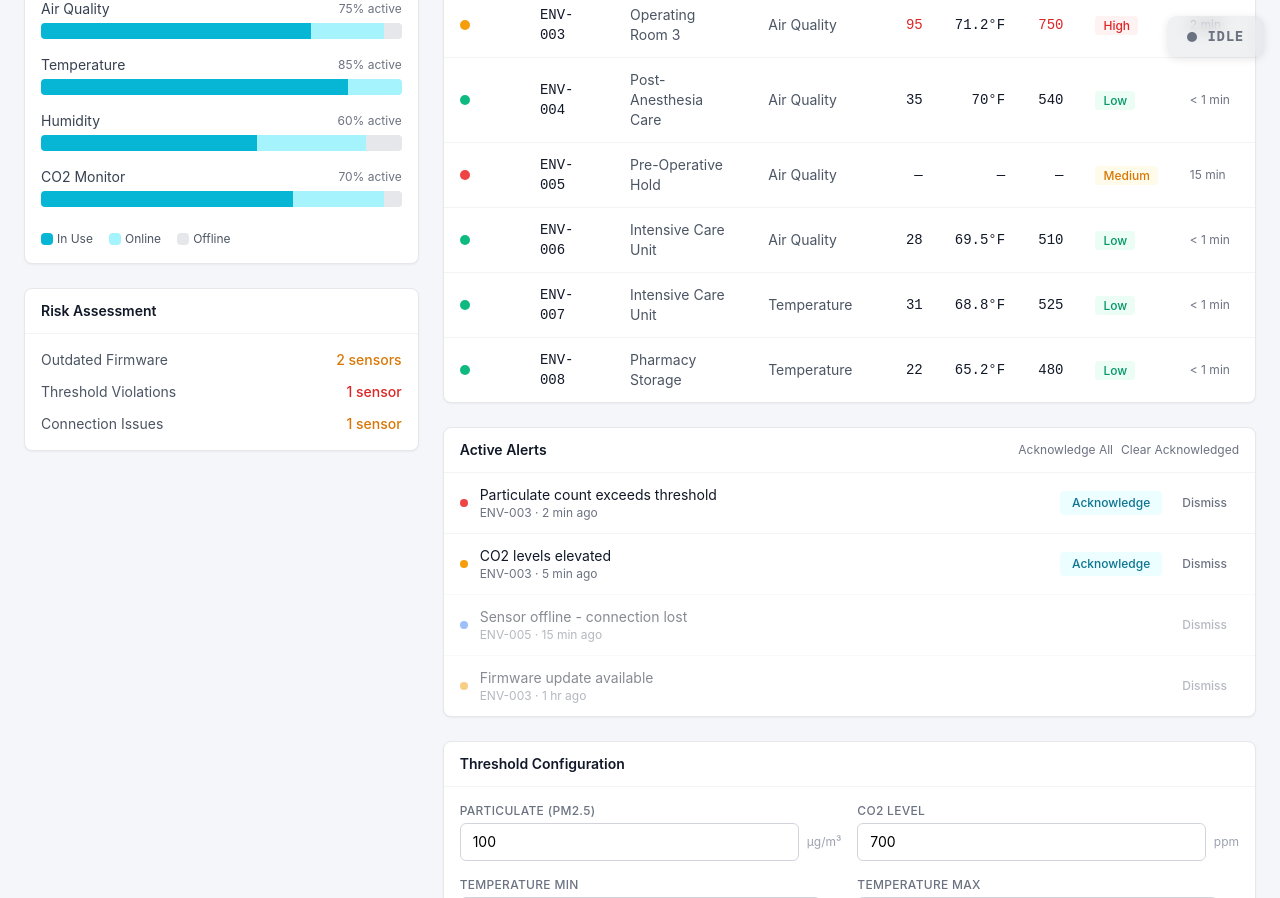
Test: Environmental Monitoring Dashboard › Alerts › acknowledge all button works
(page scrolled)
Click the button with test id "ack-all-alerts-btn" at (1066, 450), box [1018,442,1113,458]
(page scrolled)
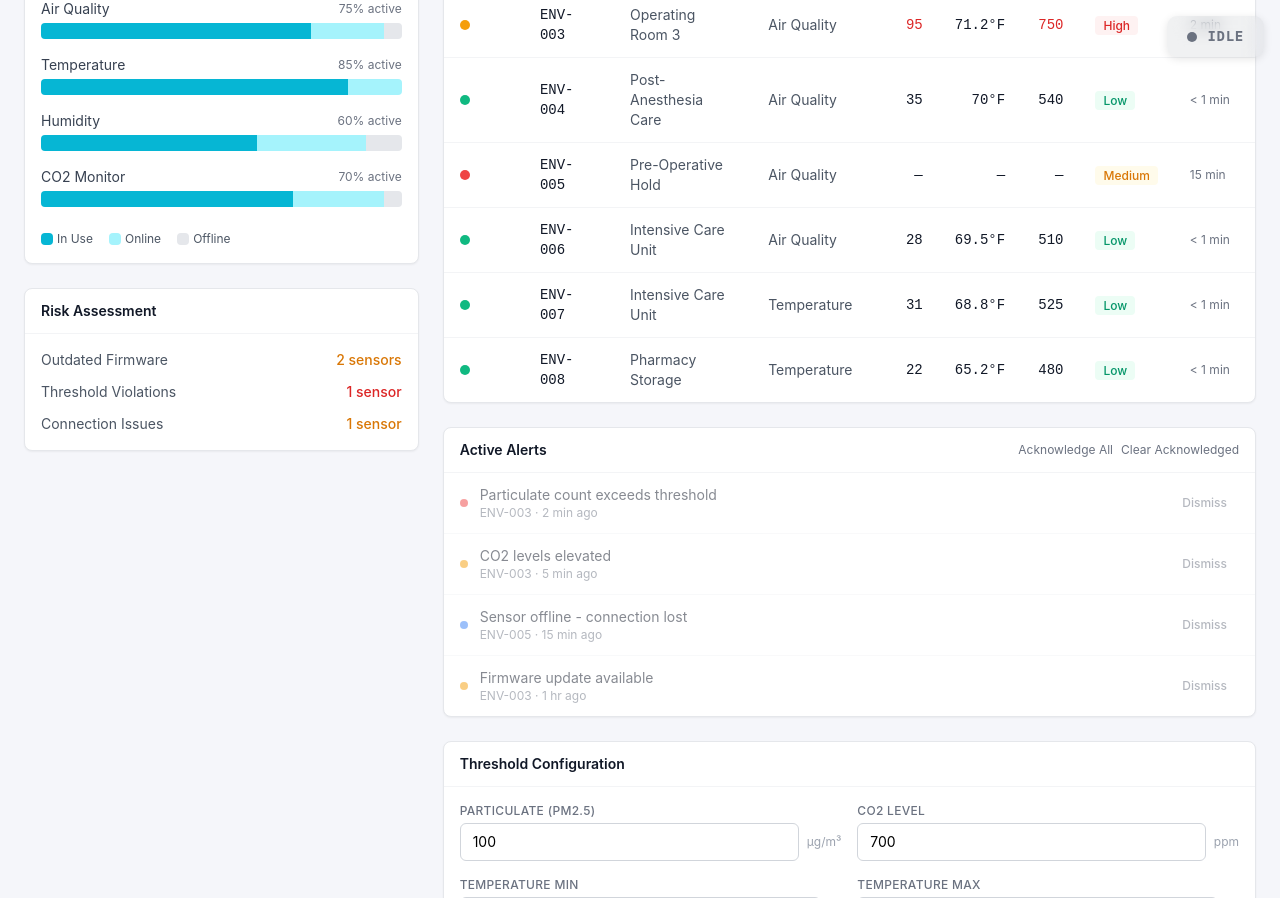
Now the button with test id "ack-alert-1" is gone
Now the button with test id "ack-alert-2" is gone
